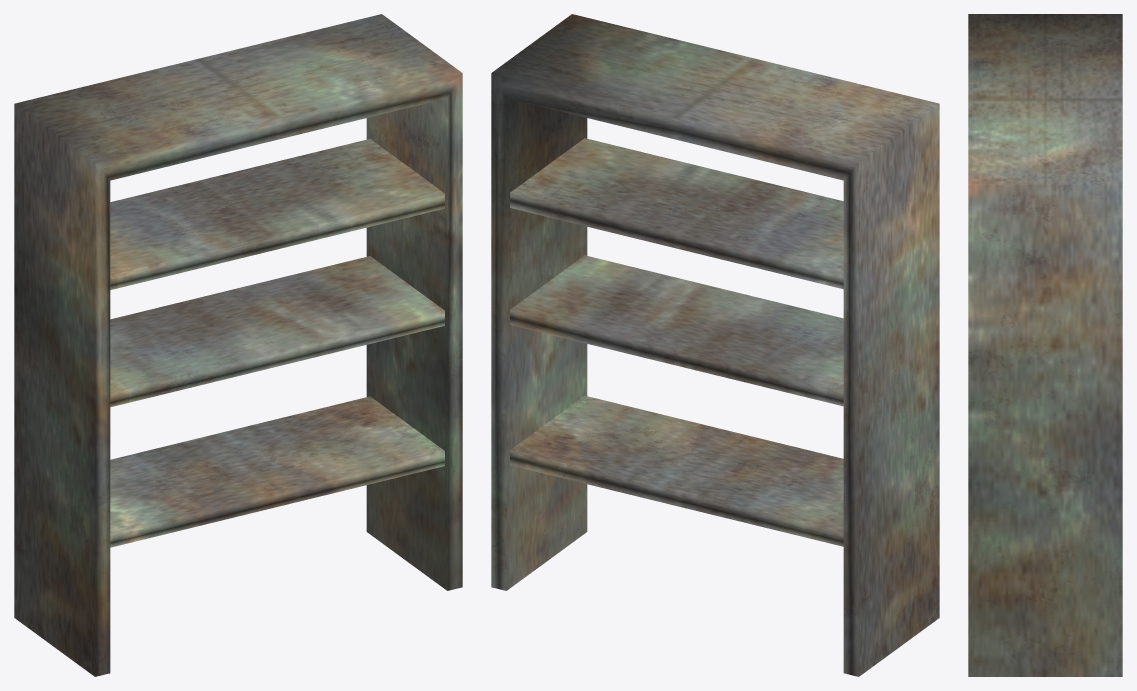
Rendered from cabinet2.fbx.
The picture shows the model from 3 angles, left to right: view 1: azimuth 30°, elevation 25°; view 2: azimuth 150°, elevation 25°; view 3: azimuth 270°, elevation 25°; orthographic projection. The views are drawn at different scales.
Visible parts, largest first — view 1: cabinet2; view 2: cabinet2; view 3: cabinet2.
Part boxes in pixels (<box>): cabinet2: <box>14,14,462,676</box>; cabinet2: <box>491,14,939,676</box>; cabinet2: <box>968,14,1122,676</box>.
Bounding box in the file's own units: 615 × 823 × 234.
